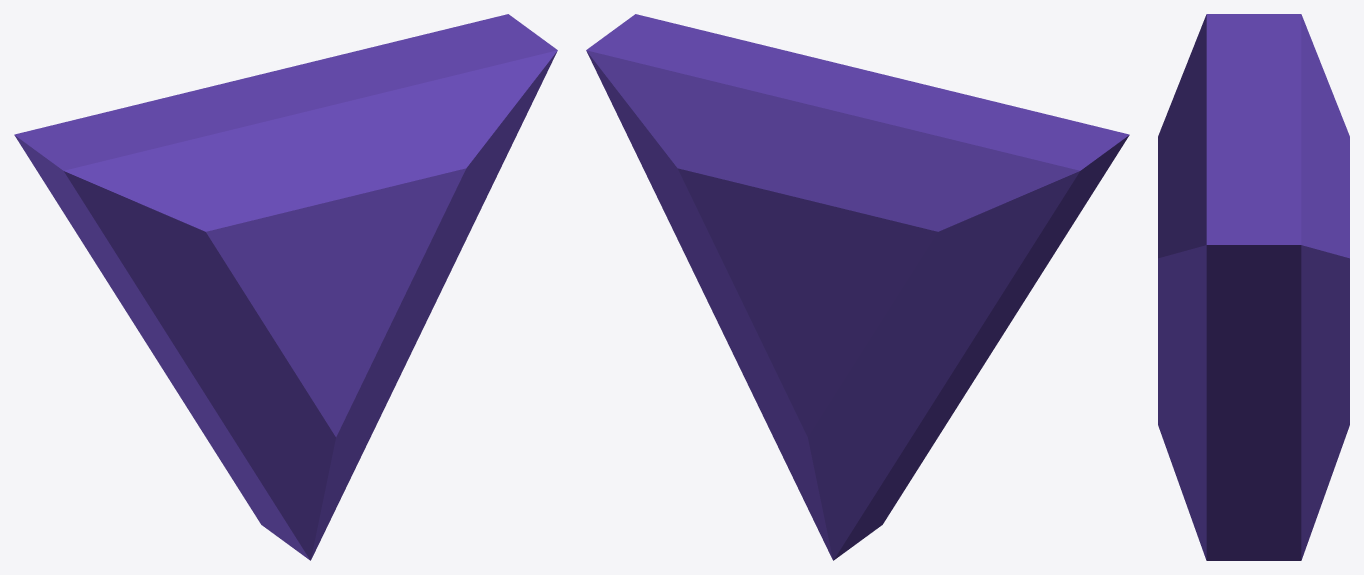
File: Gem_4-2.fbx
The picture shows the model from 3 angles, left to right: view 1: azimuth 30°, elevation 25°; view 2: azimuth 150°, elevation 25°; view 3: azimuth 270°, elevation 25°; orthographic projection. The views are drawn at different scales.
Parts seen in each view (by area): view 1: Gem_4-2; view 2: Gem_4-2; view 3: Gem_4-2.
Part boxes in pixels (x1,y1,x2,y2): Gem_4-2: (14, 14, 557, 560); Gem_4-2: (586, 14, 1129, 560); Gem_4-2: (1158, 14, 1349, 560).
Size of the model in its own units: 72.59 by 63.2 by 25.49.
